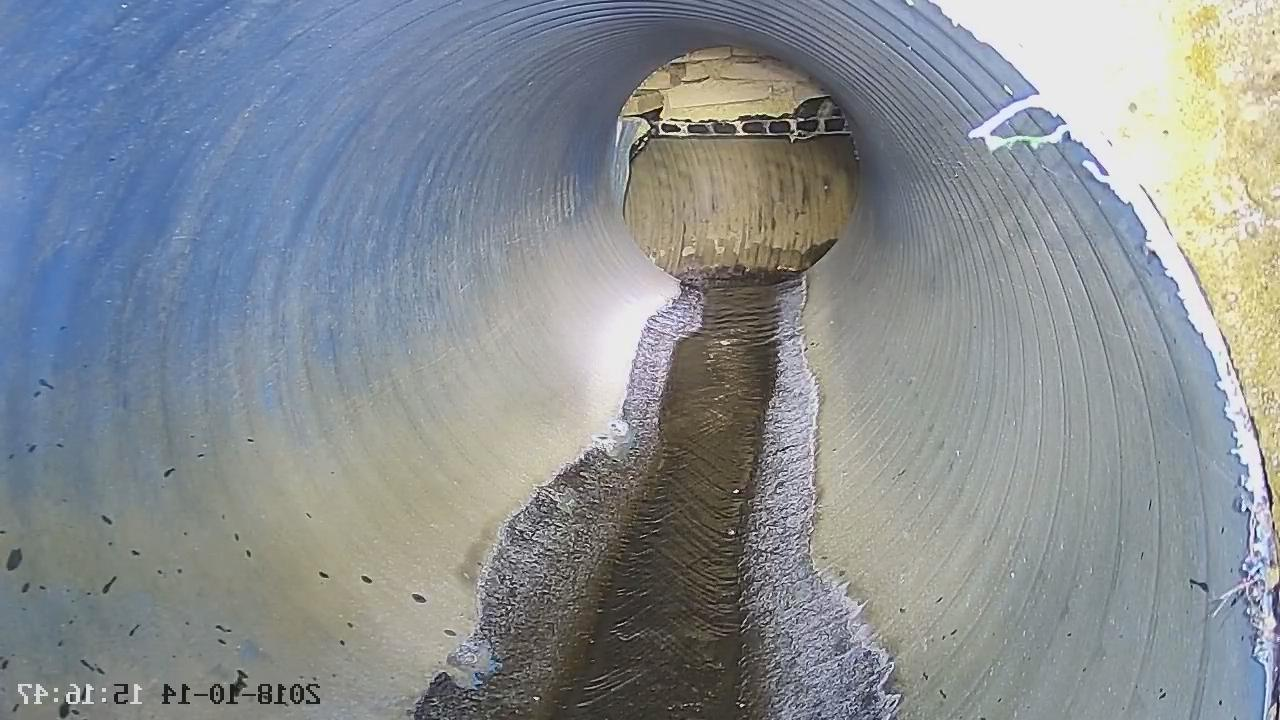CQBG: (614, 46, 850, 191)
